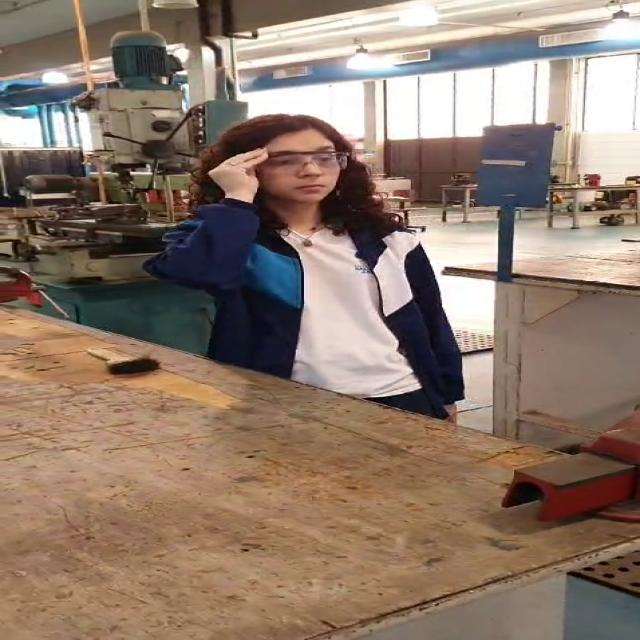oculos-epi: (236, 143, 360, 178)
